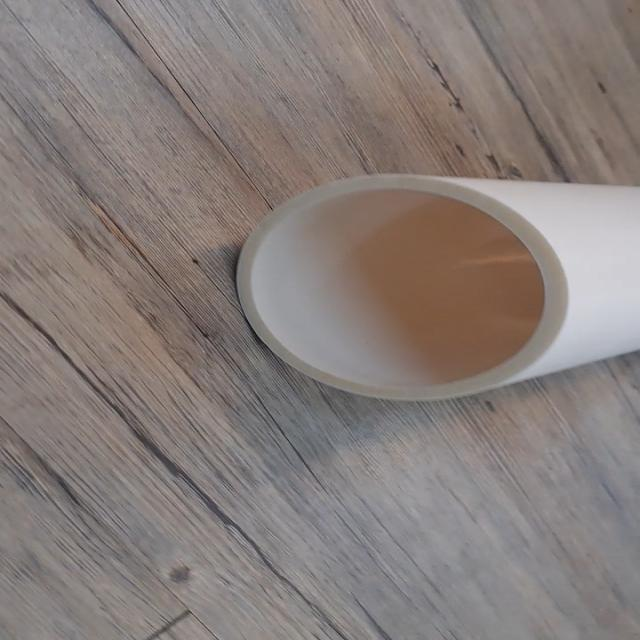CORAL: (210, 162, 640, 407)
